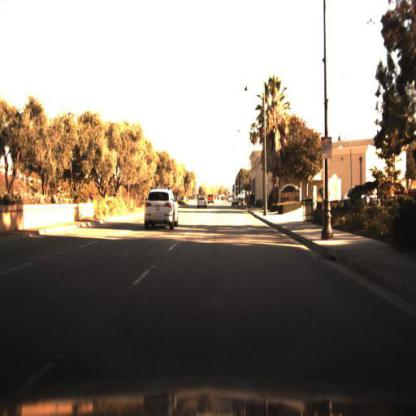car: (136, 176, 187, 240), (341, 177, 379, 219), (197, 191, 214, 212), (230, 195, 241, 212), (208, 193, 218, 207)
truck: (238, 188, 252, 201)
